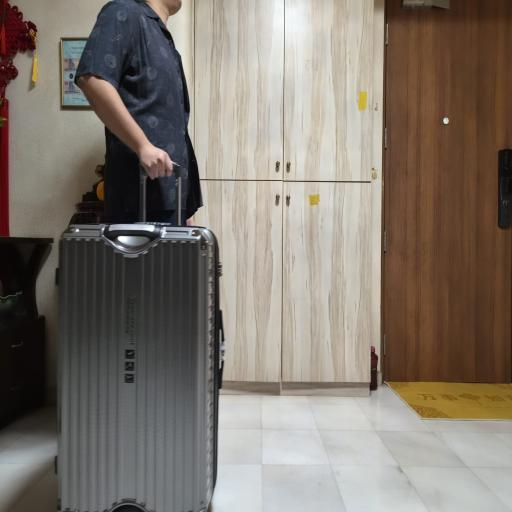person_right: (40, 6, 228, 506)
